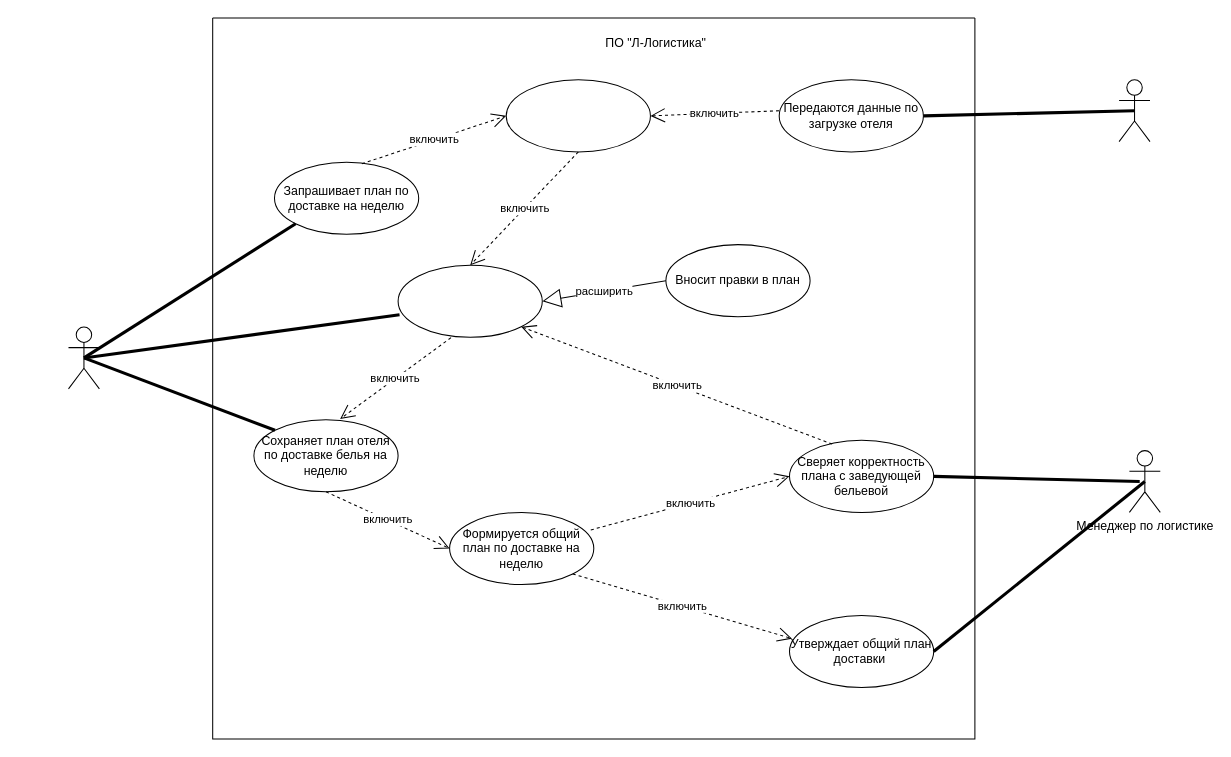
The diagram is 1231 pixels wide and 757 high, and some of its shapes have lost their labels. Here are the shapes that lost their labels. From the top down, the centre of each, then its label:
point (577, 115): Формируется план доставки с учетом загрузки отеля
point (1134, 110): ПО "О! Отель"
point (469, 300): Подтверждает корректность плана
point (83, 357): Заведующая бельевой "Белый Пион"
